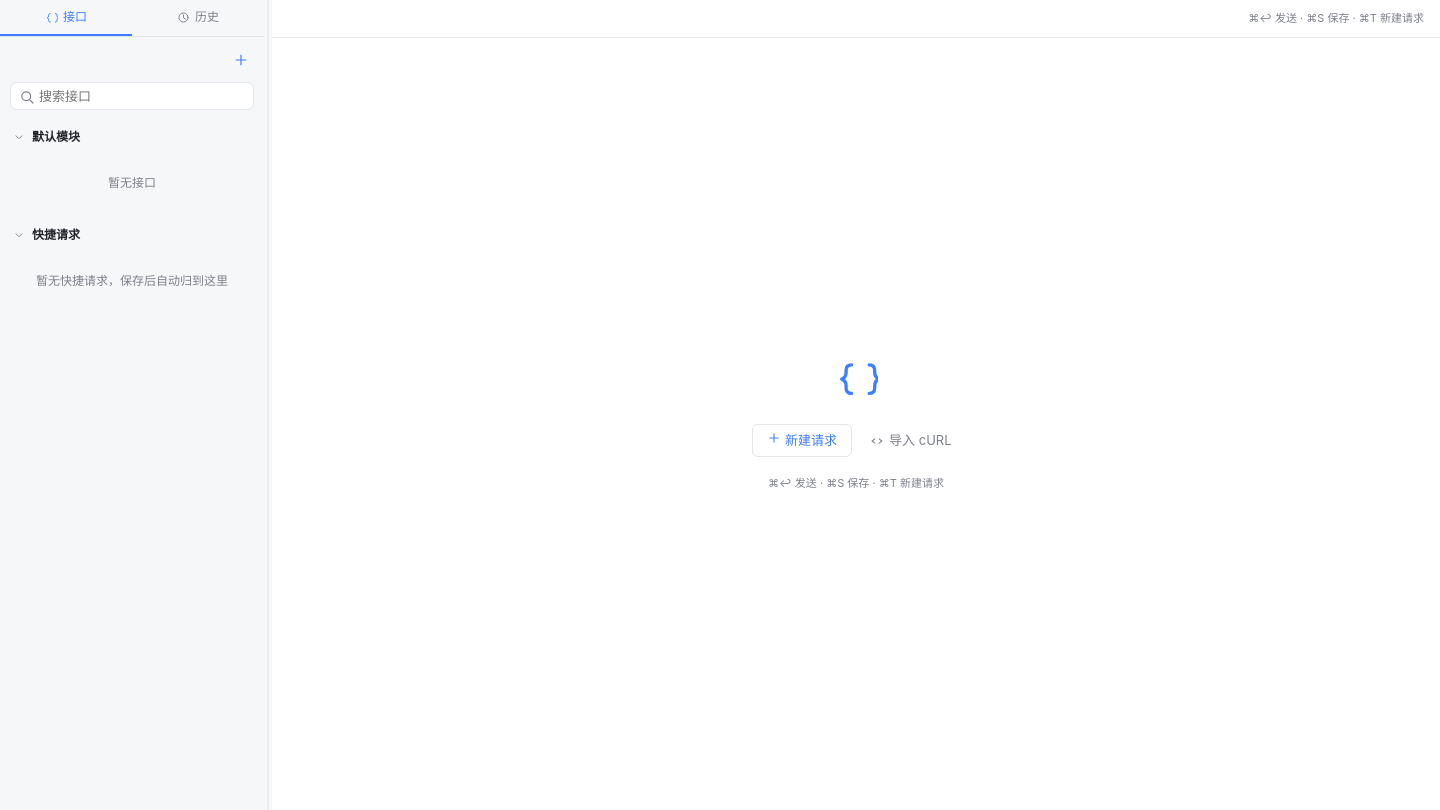
environment config › sends a relative URL against the activated environment
Click the button "新建请求". click: (802, 441)
box: [752,424,852,457]
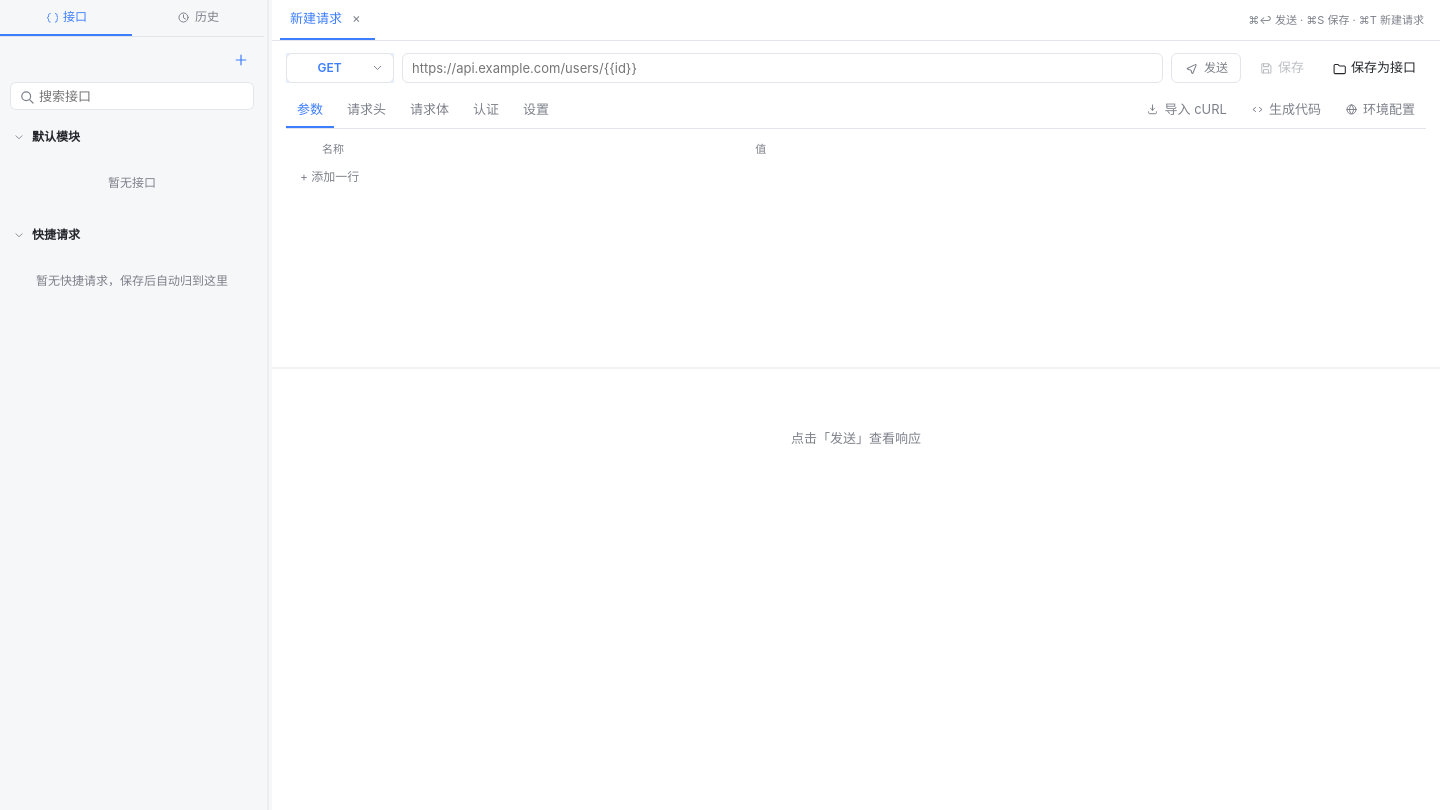
Type "/users/1" into the field named "地址". click: (782, 68)
box: [402,52,1163,82]
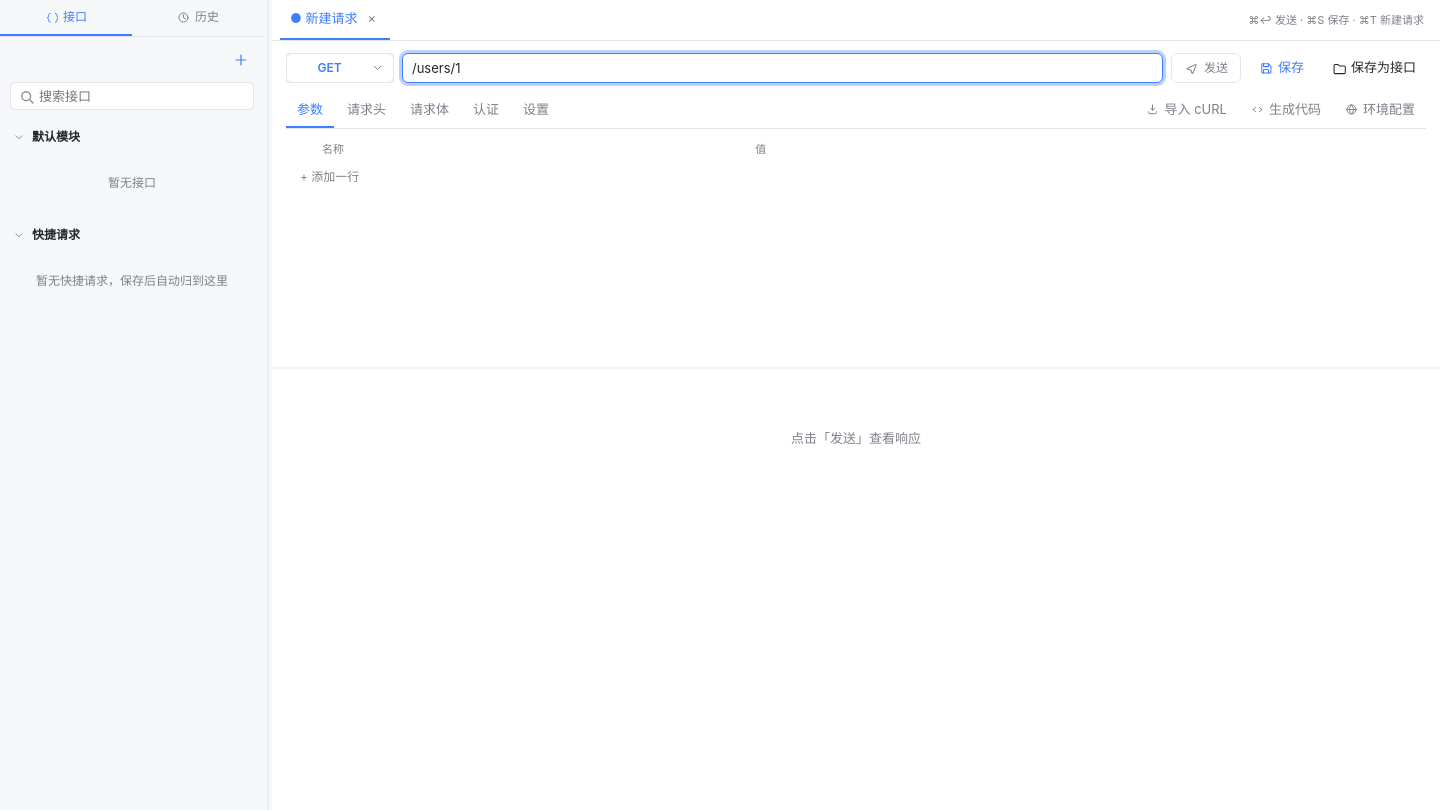
Click the button "环境配置". click: (1380, 110)
box: [1334,92,1426,128]
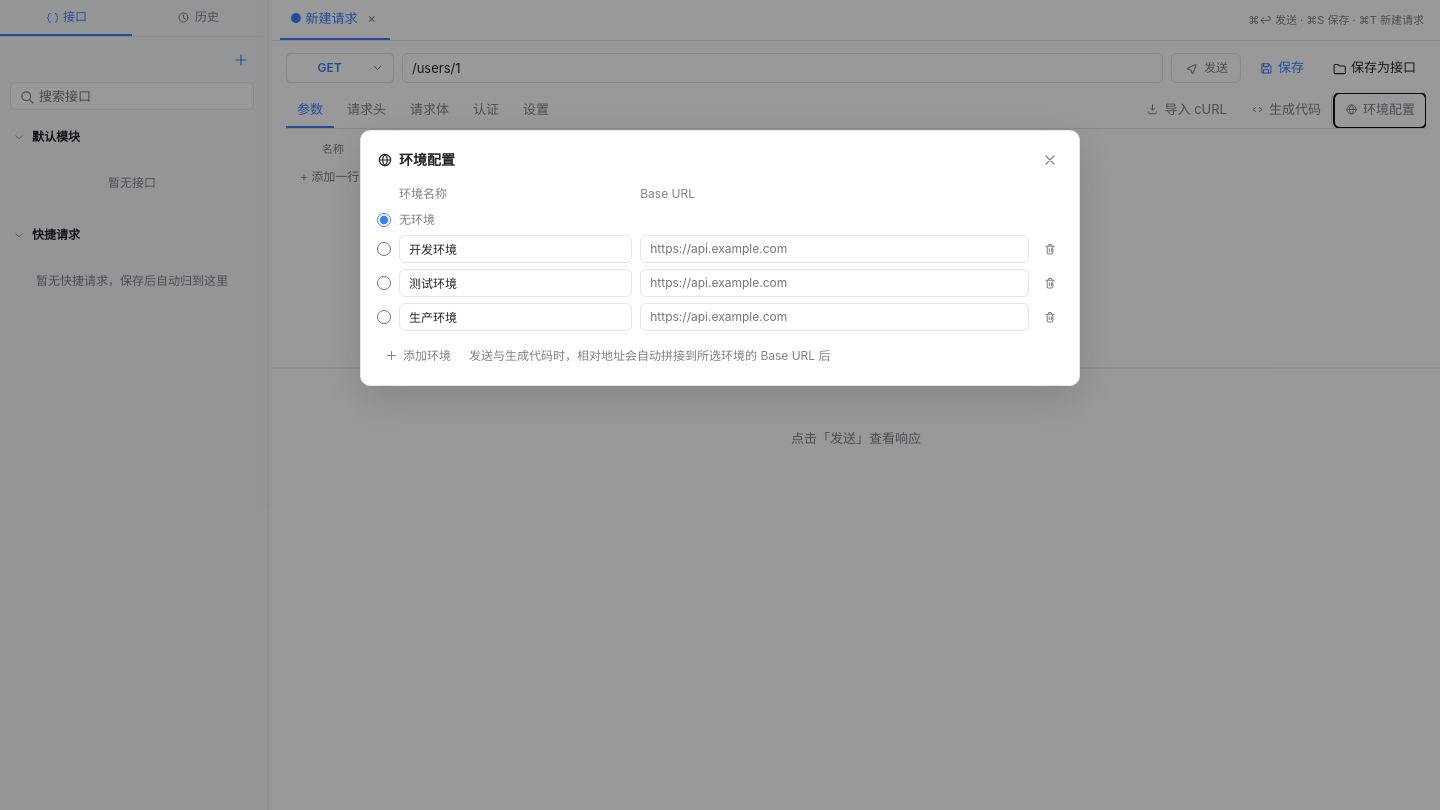
expect the 1st field showing "开发环境" is shown: met, box [399,235,632,263]
expect the 2nd field showing "测试环境" is shown: met, box [399,269,632,297]
expect the 3rd field showing "生产环境" is shown: met, box [399,303,632,331]
Type "https://dev.example.com" into the field named "Base URL (开发环境)". click: (835, 249)
box: [640,235,1029,263]
Click the radio button named "使用此环境: 开发环境". click: (384, 249)
box: [377,242,391,256]
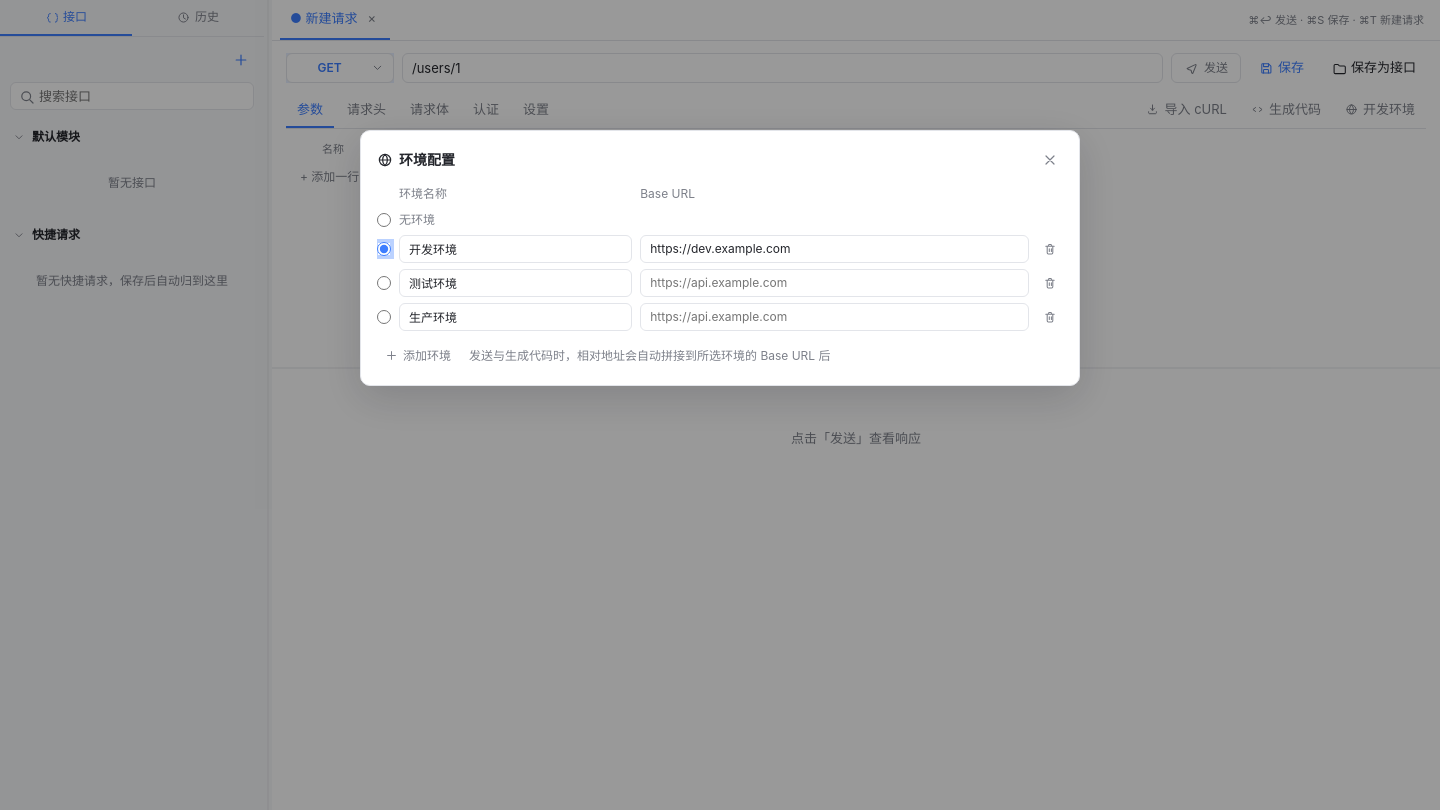
Click the button named "关闭". click: (1050, 160)
box: [1037,147,1063,173]
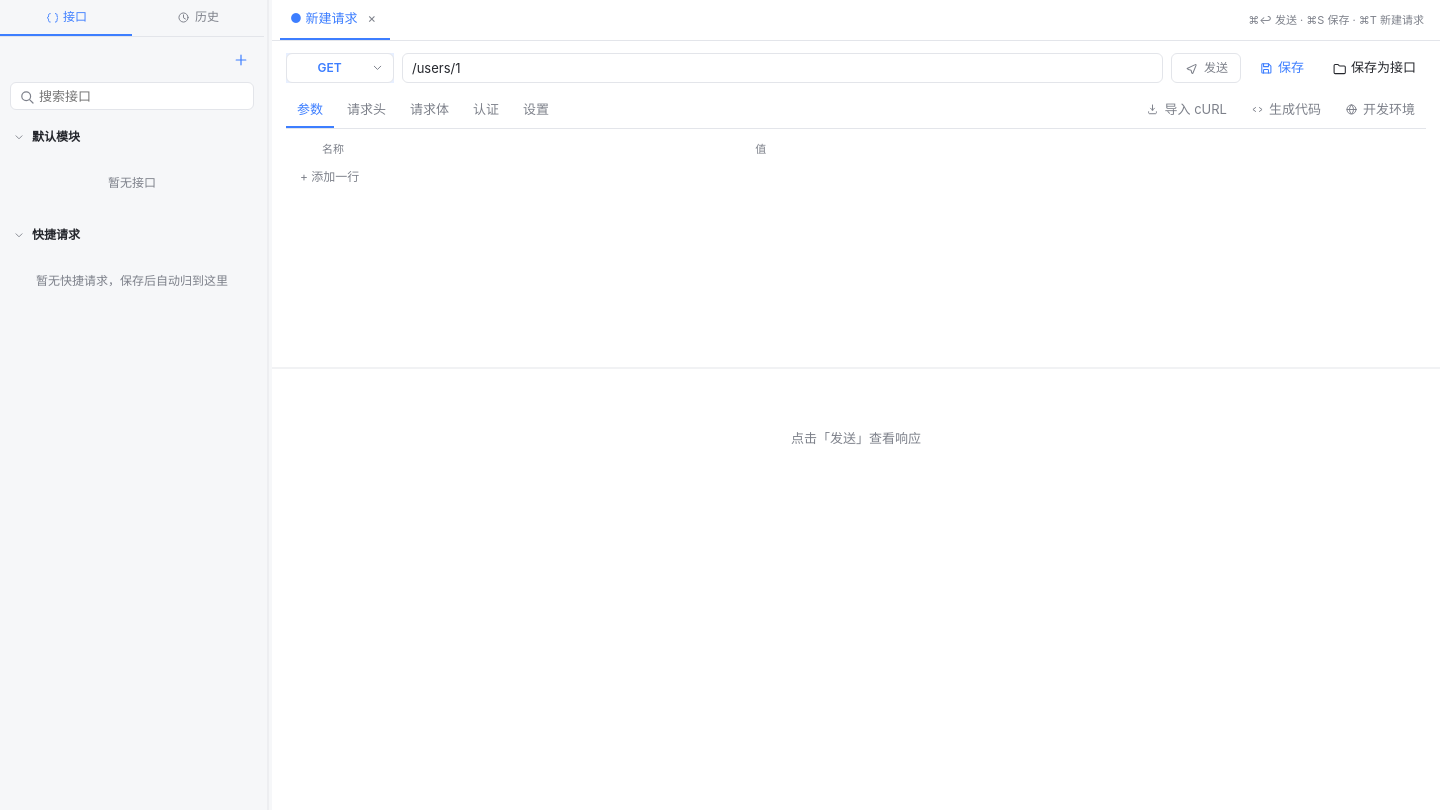
Click the button "发送". click: (1206, 68)
box: [1171,52,1241,82]
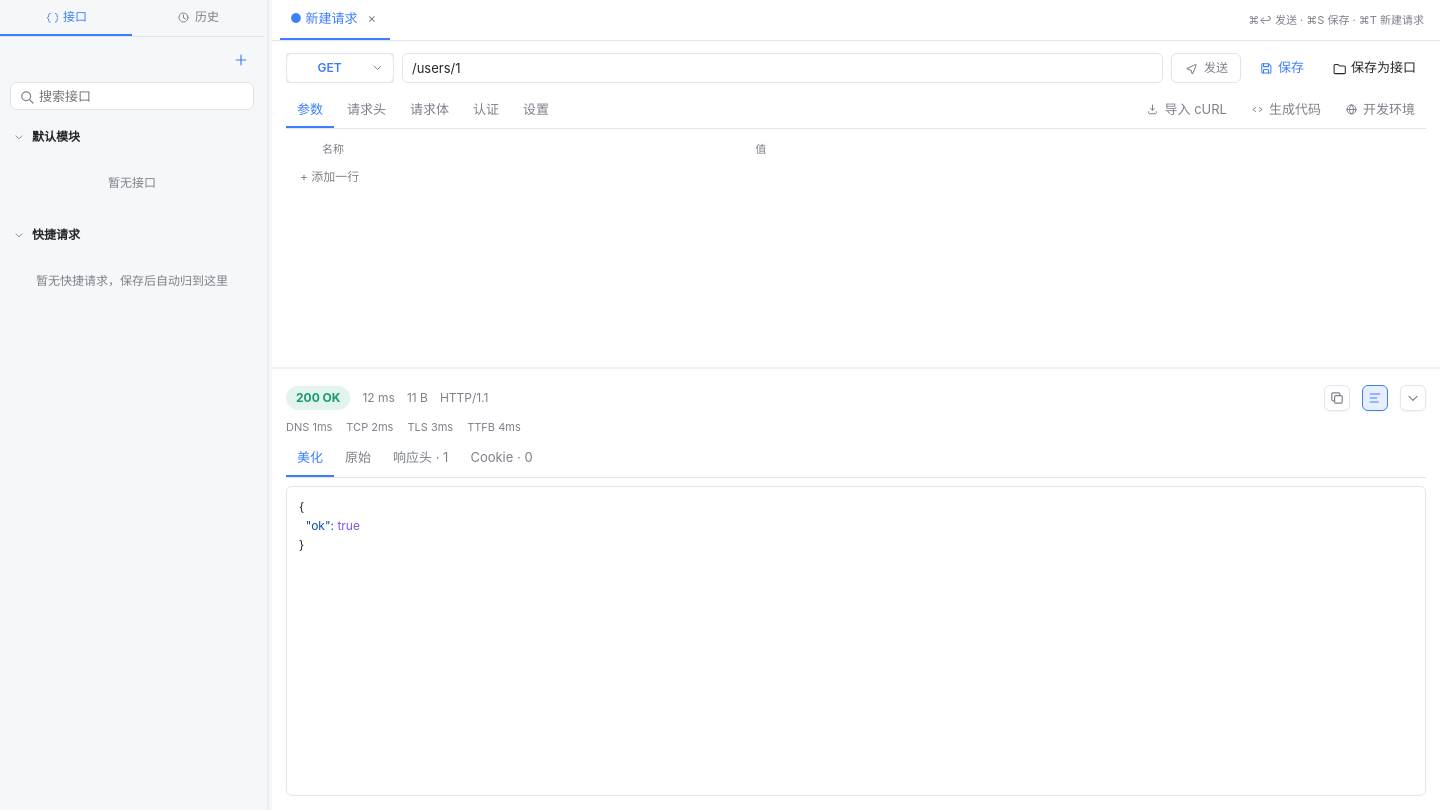
expect the text "200 OK" is shown: met, box [286,386,350,410]
